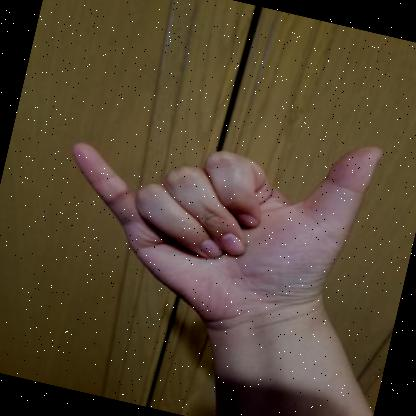Y: (72, 142, 383, 352)
